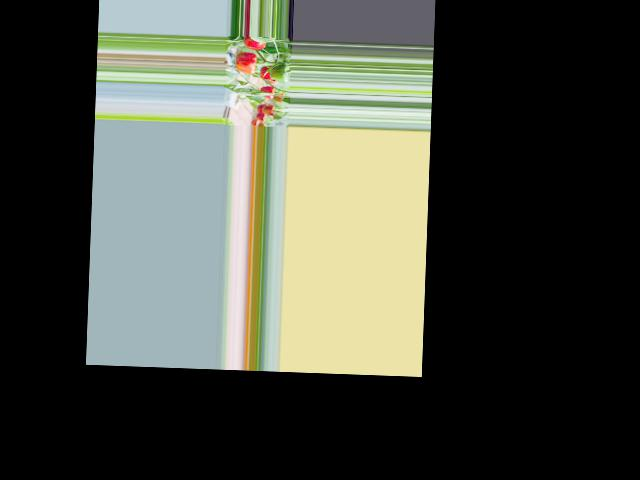bell_pepper: (256, 85, 278, 100)
